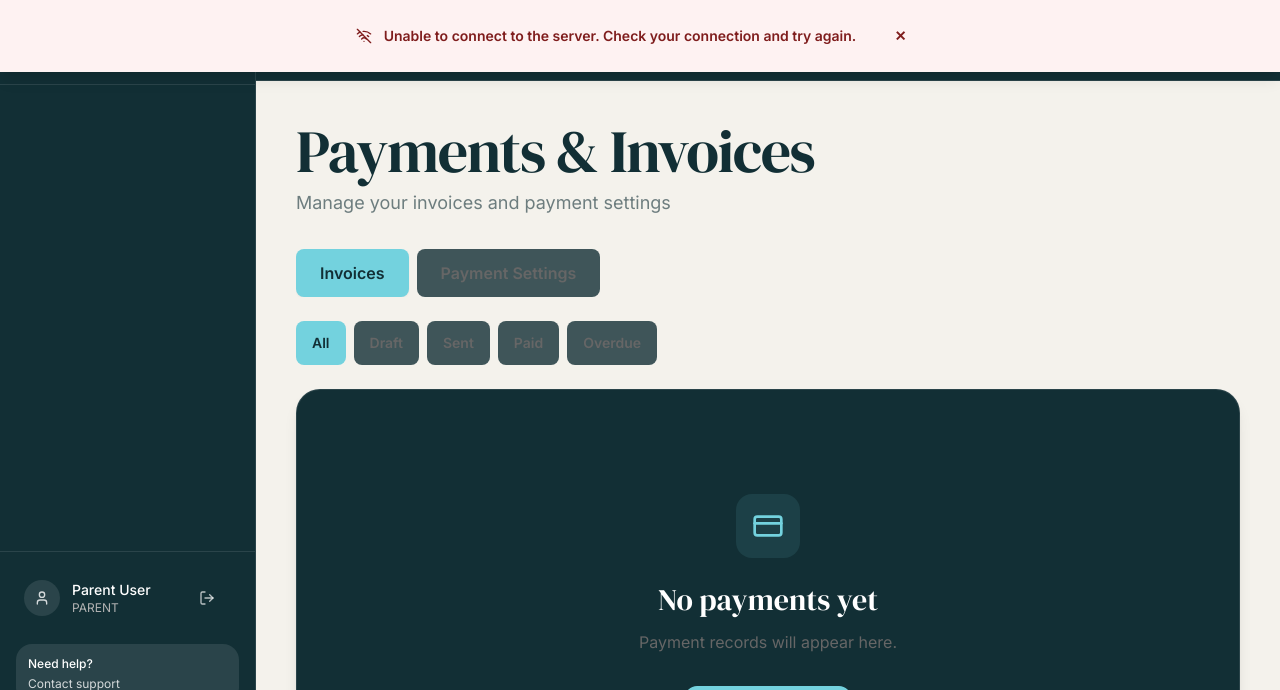
Scenario: Payments page settings tab without a payment provider › keeps the existing Stripe settings content for a Stripe club
Click the button "Payment Settings": (508, 273) [417,249,600,297]
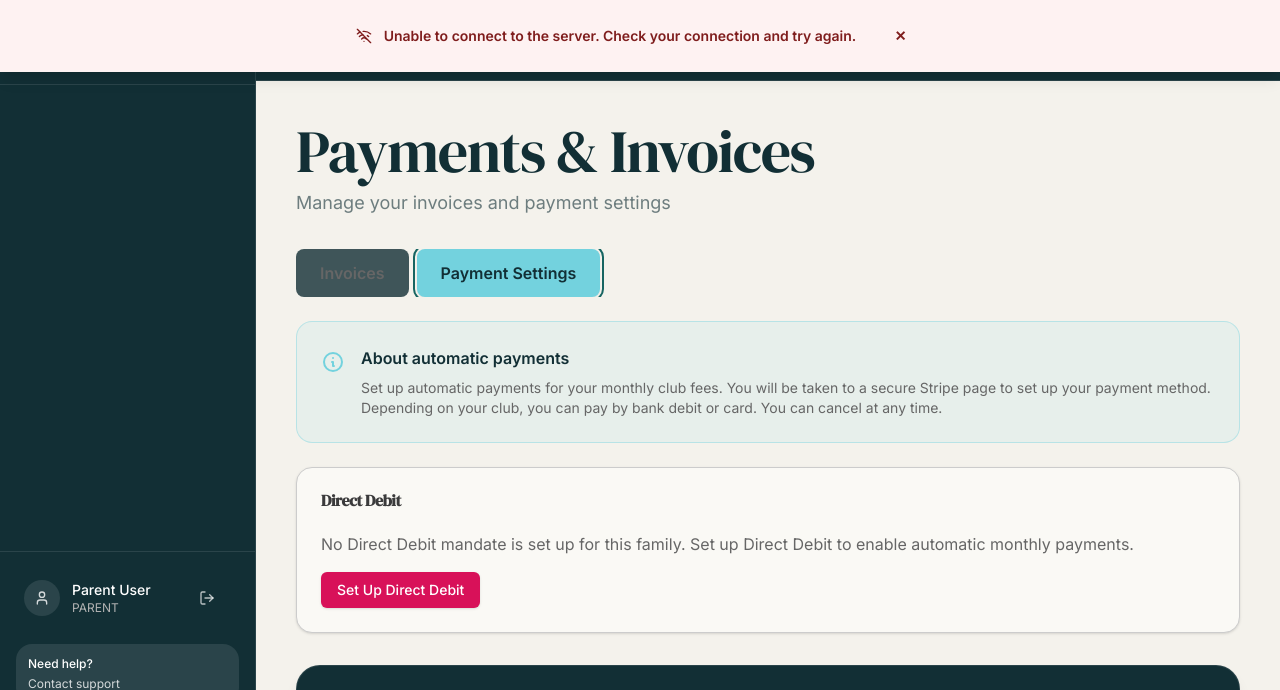
Now the heading "About automatic payments" is shown, box [361,348,569,368]
